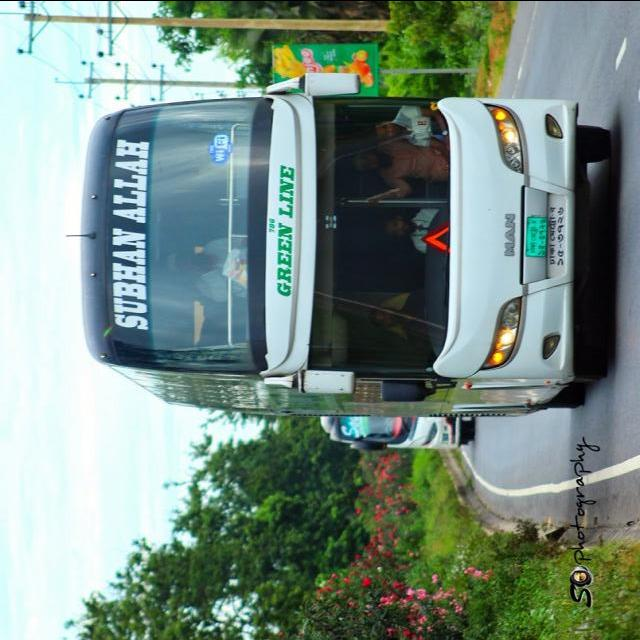bus: (80, 70, 617, 416)
